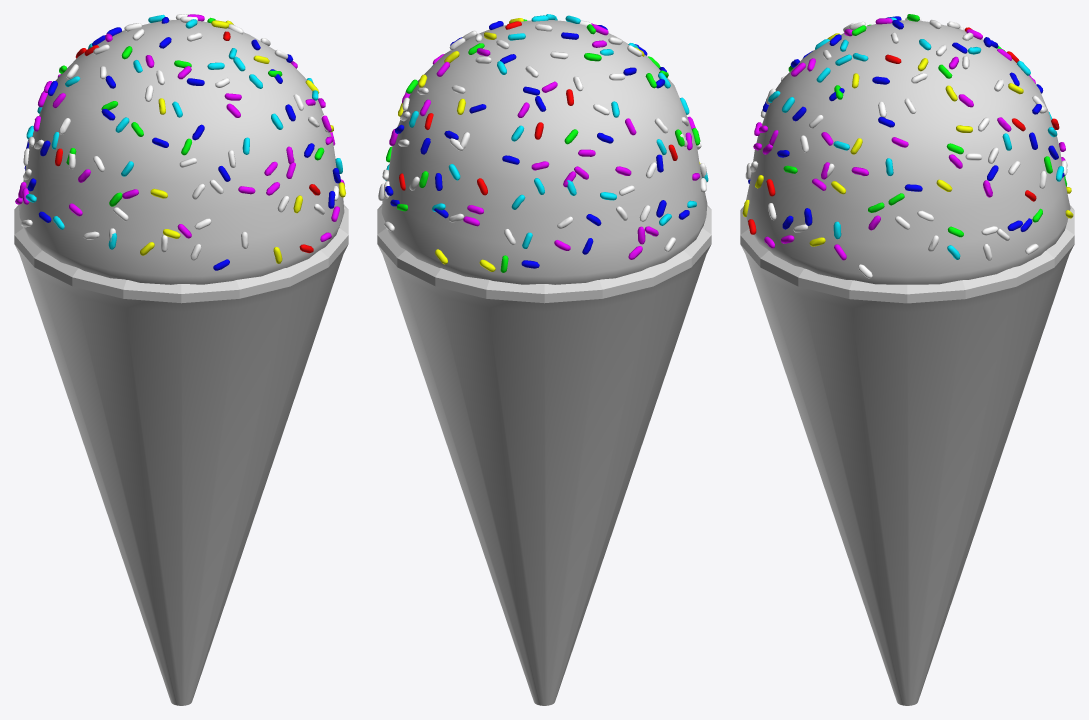
Rendered from IcecreamFull.fbx.
3 views of the same model, side by side, from view 1: azimuth 30°, elevation 25°; view 2: azimuth 150°, elevation 25°; view 3: azimuth 270°, elevation 25° (orthographic).
Parts seen in each view (by area): view 1: Cone, Scoop; view 2: Cone, Scoop; view 3: Cone, Scoop.
Boxes of the visible parts, left/top/right/bottom form: Cone: left=14, top=204, right=348, bottom=705; Scoop: left=18, top=20, right=344, bottom=284; Cone: left=377, top=204, right=711, bottom=705; Scoop: left=381, top=20, right=707, bottom=284; Cone: left=740, top=205, right=1074, bottom=705; Scoop: left=746, top=20, right=1070, bottom=284.
Bounding box in the file's own units: 64.38 × 140 × 63.4.
